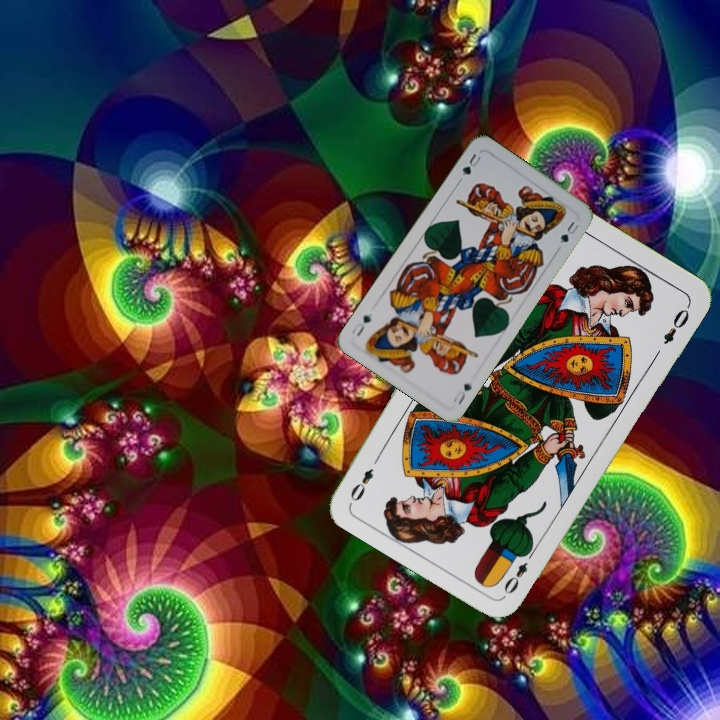EO: (499, 544, 538, 597)
GU: (458, 149, 484, 178), (449, 379, 475, 407)
